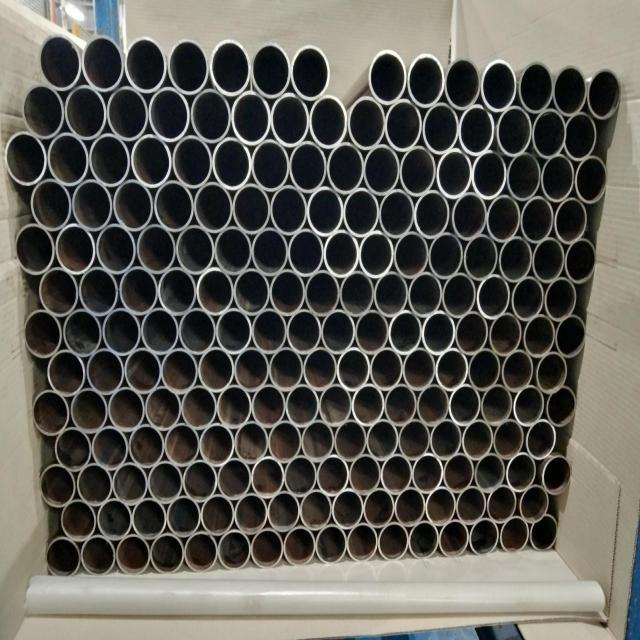pipe: (38, 32, 83, 90), (124, 35, 168, 92), (81, 34, 125, 91), (64, 83, 108, 140), (209, 39, 252, 96), (22, 82, 65, 139), (106, 84, 149, 140), (167, 38, 210, 94), (5, 130, 48, 186), (148, 86, 191, 141), (47, 131, 90, 186), (88, 132, 131, 187), (290, 43, 331, 100), (190, 88, 232, 143), (130, 133, 172, 188), (251, 42, 291, 98), (270, 92, 310, 147), (231, 90, 271, 145), (14, 223, 56, 275), (113, 178, 154, 231), (72, 178, 113, 231), (32, 178, 73, 231), (250, 138, 290, 192), (309, 94, 348, 149), (347, 95, 386, 150), (368, 50, 408, 103), (172, 135, 212, 188), (212, 136, 252, 189), (289, 139, 328, 193), (154, 180, 195, 231), (136, 223, 177, 274), (39, 266, 80, 317), (119, 265, 160, 316), (55, 223, 96, 274), (79, 266, 120, 317), (406, 52, 444, 107), (193, 181, 233, 233), (384, 98, 422, 152), (96, 224, 137, 274), (232, 183, 271, 235), (480, 59, 518, 112), (327, 141, 365, 194), (457, 103, 495, 156), (421, 102, 459, 155), (443, 56, 481, 109), (363, 142, 400, 196), (158, 265, 197, 316), (176, 224, 215, 275), (269, 184, 308, 235), (399, 145, 437, 197), (495, 105, 532, 158), (63, 308, 103, 357), (23, 309, 63, 358), (102, 308, 142, 356), (517, 60, 553, 113), (214, 226, 252, 276), (343, 187, 380, 238), (436, 148, 473, 199), (196, 267, 234, 316), (378, 188, 415, 238), (307, 186, 344, 236), (471, 149, 507, 200), (141, 307, 180, 354), (86, 348, 125, 395), (48, 350, 87, 397), (70, 387, 109, 434), (179, 307, 217, 355), (553, 64, 588, 116), (586, 67, 621, 119), (252, 227, 289, 276), (288, 228, 325, 277), (450, 192, 487, 241), (414, 190, 451, 239), (124, 347, 162, 394), (541, 152, 576, 203), (233, 268, 270, 316), (462, 233, 499, 281), (531, 107, 565, 159), (358, 230, 394, 279), (393, 230, 429, 279), (323, 229, 359, 278), (32, 390, 71, 435), (506, 151, 541, 201), (161, 347, 199, 393), (108, 386, 146, 432), (251, 307, 288, 354), (269, 269, 305, 317), (497, 235, 533, 283), (564, 110, 597, 162), (486, 194, 521, 243), (92, 425, 130, 470), (55, 426, 93, 471), (129, 423, 166, 469), (373, 271, 409, 318), (216, 307, 252, 354), (198, 346, 234, 393), (305, 269, 340, 317), (428, 232, 463, 280), (340, 270, 375, 318), (520, 195, 554, 244), (145, 385, 182, 430), (40, 463, 77, 508), (286, 309, 322, 355), (181, 385, 217, 431), (408, 271, 443, 318), (77, 463, 114, 507), (234, 347, 270, 392), (199, 422, 235, 467), (164, 422, 200, 467), (182, 458, 218, 503), (148, 459, 184, 504), (574, 154, 607, 203), (476, 274, 511, 320), (510, 275, 545, 321), (442, 272, 477, 318), (554, 196, 587, 244), (113, 462, 149, 506), (532, 236, 565, 284), (61, 498, 97, 542), (251, 383, 286, 428), (285, 383, 320, 428), (321, 309, 356, 354), (354, 310, 389, 355), (269, 347, 304, 392), (217, 384, 252, 429), (421, 310, 456, 355), (303, 346, 338, 391), (388, 309, 422, 355), (97, 498, 133, 541), (80, 533, 116, 576), (217, 457, 252, 501), (234, 420, 269, 464), (251, 455, 286, 499), (454, 311, 489, 355), (402, 347, 437, 391), (201, 493, 236, 537), (488, 312, 523, 356), (336, 346, 370, 391), (544, 276, 577, 322), (167, 495, 202, 538), (132, 497, 167, 540), (116, 533, 151, 576), (319, 383, 353, 427), (234, 491, 268, 535), (522, 314, 556, 358), (267, 490, 301, 534), (370, 346, 403, 391), (564, 237, 596, 283), (46, 536, 81, 578), (268, 420, 302, 463), (383, 383, 417, 426), (416, 383, 450, 426), (301, 419, 335, 462), (333, 419, 367, 462), (185, 530, 219, 573), (151, 532, 185, 575), (352, 383, 385, 427), (501, 349, 534, 393), (468, 348, 501, 392), (284, 454, 317, 497), (300, 489, 333, 532), (480, 384, 513, 427), (398, 418, 431, 461), (366, 418, 399, 461), (535, 351, 568, 394), (436, 348, 469, 391), (513, 384, 546, 427), (349, 453, 382, 495), (251, 527, 284, 569), (317, 454, 350, 496), (218, 529, 251, 571), (449, 383, 481, 426), (555, 314, 586, 358), (284, 525, 317, 566), (462, 418, 494, 460), (332, 488, 364, 530), (381, 453, 413, 495), (430, 418, 462, 460), (493, 418, 525, 460), (363, 487, 395, 529), (505, 452, 538, 492), (525, 419, 557, 460), (443, 452, 475, 493), (412, 453, 444, 494), (378, 521, 410, 562), (316, 523, 347, 565), (474, 453, 506, 493), (540, 454, 572, 494), (395, 487, 426, 528), (426, 486, 457, 527), (347, 522, 378, 563), (409, 519, 440, 559), (456, 485, 487, 525), (546, 386, 577, 426), (487, 484, 518, 523), (439, 519, 470, 558), (469, 517, 500, 556), (518, 485, 550, 522), (500, 515, 530, 553), (530, 515, 559, 552)
